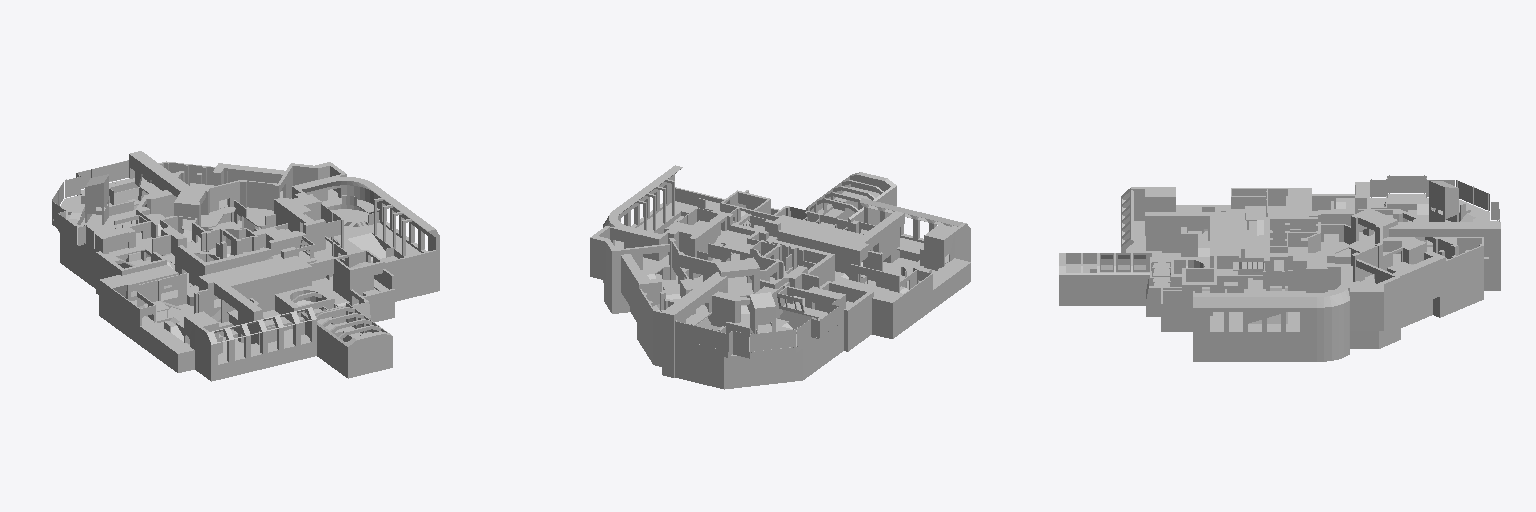
File: hadal.obj
The picture shows the model from 3 angles: view 1: azimuth 30°, elevation 25°; view 2: azimuth 150°, elevation 25°; view 3: azimuth 270°, elevation 25°; orthographic projection.
Visible parts, largest first — view 1: Brush2141, Brush1579, Brush009, Brush011, Brush2728, Brush387, Brush543, Brush054, func_detail535, Brush2724, Brush1717, func_detail145; view 2: Brush2141, Brush1579, Brush009, Brush011, Brush1717, Brush2728, Brush543, Brush054, Brush387, func_detail145, Brush2724, func_detail535; view 3: Brush1579, Brush054, Brush1717, Brush387, Brush009, Brush2141, Brush2728, func_detail535, Brush543, Brush011, Brush2724, func_detail145.
Part boxes in pixels (x1,y1,x2,y2): Brush2141: (52,174,176,294); Brush1579: (219,162,387,248); Brush009: (184,286,316,381); Brush011: (99,265,198,372); Brush2728: (160,216,325,286); Brush387: (275,286,392,378); Brush543: (156,235,316,341); Brush054: (320,184,439,301); func_detail535: (309,236,394,321); Brush2724: (174,180,279,231); Brush1717: (129,151,227,208); func_detail145: (52,160,128,248); Brush2141: (675,272,873,389); Brush1579: (590,207,726,321); Brush009: (851,198,970,289); Brush011: (829,258,970,338); Brush1717: (637,267,727,377); Brush2728: (708,210,834,305); Brush543: (737,215,906,287); Brush054: (613,165,726,233); Brush387: (804,172,896,230); func_detail145: (675,297,838,352); Brush2724: (669,238,759,313); func_detail535: (720,190,805,228); Brush1579: (1263,253,1439,361); Brush054: (1193,289,1316,361); Brush1717: (1383,222,1500,317); Brush387: (1059,253,1209,305); Brush009: (1121,187,1209,271); Brush2141: (1309,181,1498,290); Brush2728: (1264,210,1363,290); func_detail535: (1146,256,1262,331); Brush543: (1202,209,1263,279); Brush011: (1176,188,1311,240); Brush2724: (1330,208,1397,290); func_detail145: (1370,175,1499,221).
Size of the model in its own units: 4352 by 1104 by 5920.